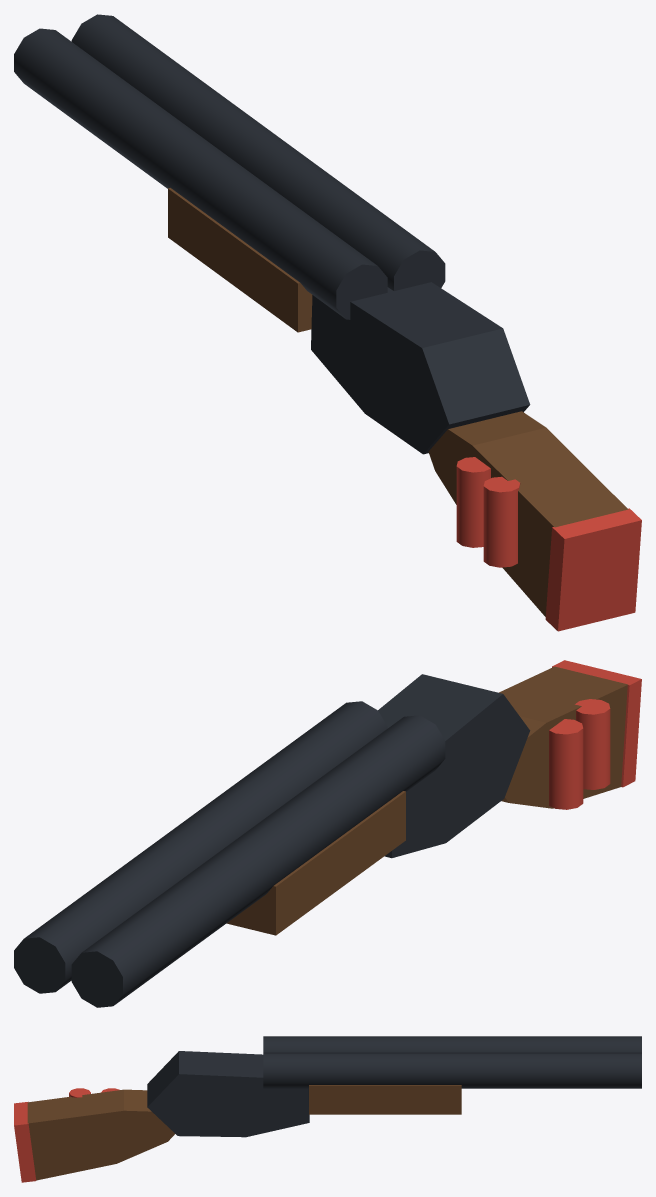
File: rock_salt.glb
The picture shows the model from 3 angles, top to bottom: view 1: azimuth 30°, elevation 25°; view 2: azimuth 150°, elevation 25°; view 3: azimuth 270°, elevation 25°; orthographic projection. The views are drawn at different scales.
Visible parts, largest first — view 1: Merged; view 2: Merged; view 3: Merged.
Part boxes in pixels (x1=…): Merged: x1=14, y1=14, x2=641, y2=631; Merged: x1=14, y1=660, x2=641, y2=1007; Merged: x1=14, y1=1036, x2=641, y2=1182.
Size of the model in its own units: 0.1053 by 0.1873 by 0.8483.
